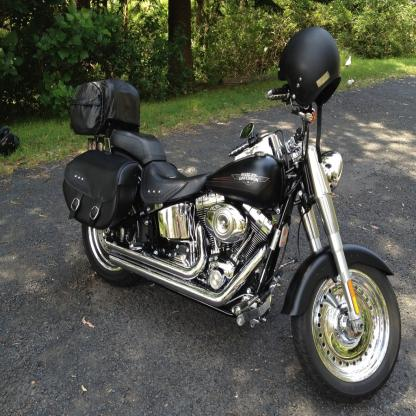Helmet: (274, 27, 342, 113)
